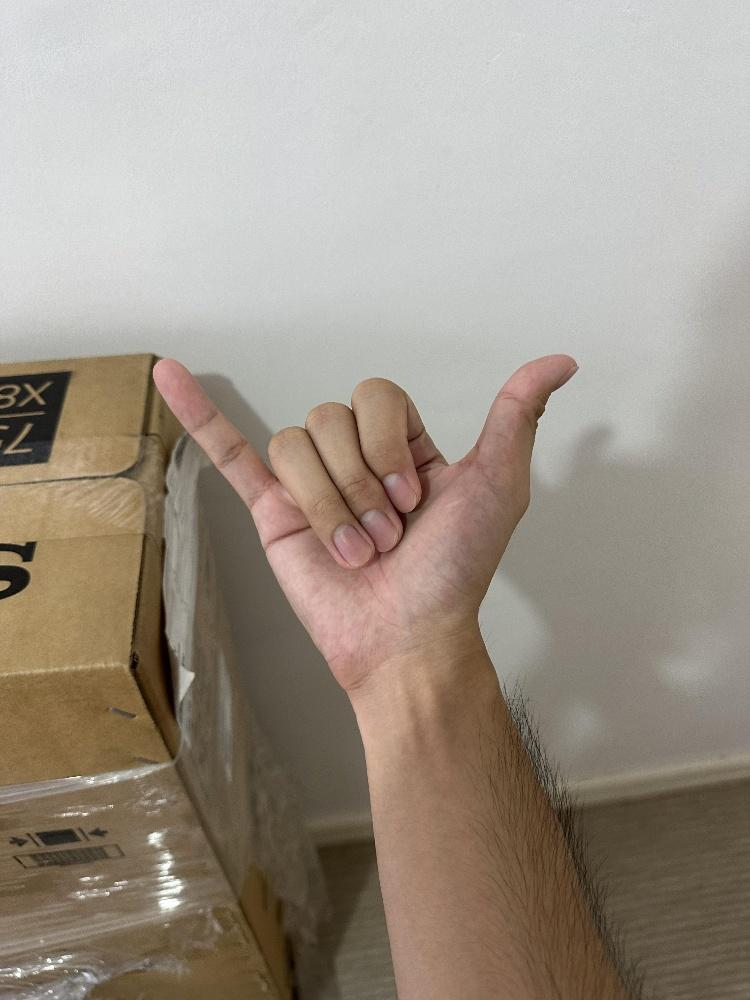y: (148, 350, 584, 691)
